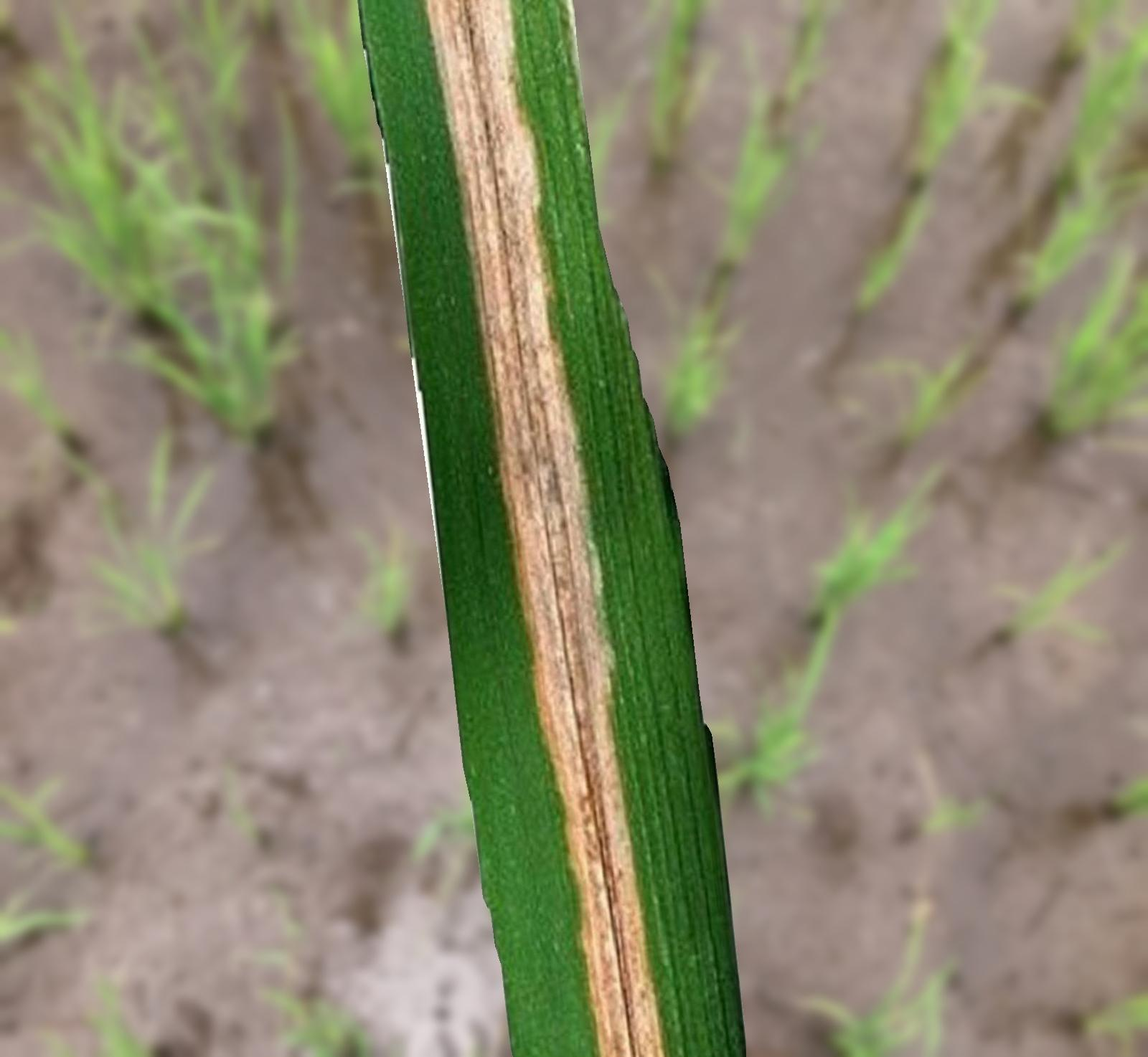BLB: (423, 0, 664, 1056)
LEAF: (358, 0, 745, 1056)
